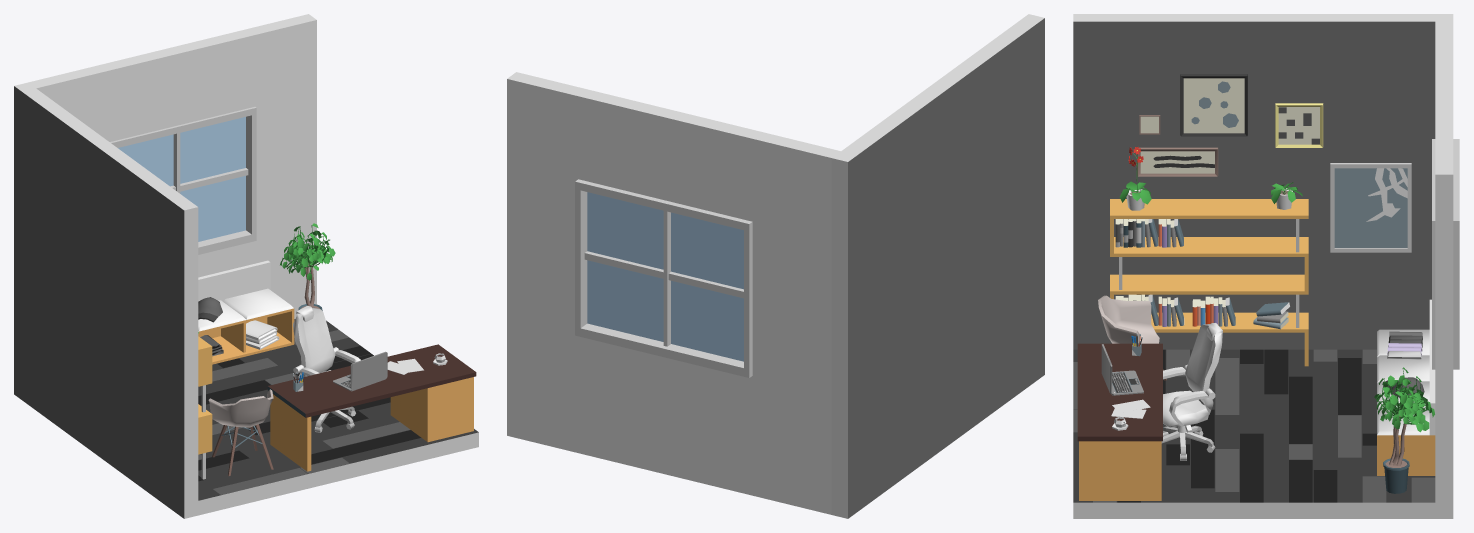
Rendered from room_12.glb.
3 views of the same model, side by side, from view 1: azimuth 30°, elevation 25°; view 2: azimuth 150°, elevation 25°; view 3: azimuth 270°, elevation 25° (orthographic). The views are drawn at different scales.
Parts seen in each view (by area): view 1: Walls_046.009, Walls_006.035, floor_007.001, Walls_006.037, window_008.001, office_table_027.001, tv_wall_002.001, Walls_011.006, Walls_006.033, office_chair_024.001, kitchen_chair_023.001, flower_027.003 (+4 smaller); view 2: Walls_046.009, Walls_006.033, window_008.001, Walls_006.035, Walls_006.036, Walls_006.037; view 3: Walls_046.009, floor_007.001, shelf_077.002, office_table_027.001, picture_034.001, Walls_011.006, picture_029.003, Walls_006.035, tv_wall_002.001, office_chair_024.001, flower_027.003, window_008.001 (+12 smaller).
Boxes of the visible parts, x1,y1,x2,y2 form: Walls_046.009: (14, 82, 198, 518); Walls_006.035: (246, 14, 316, 318); floor_007.001: (198, 319, 478, 500); Walls_006.037: (98, 29, 253, 141); window_008.001: (110, 107, 256, 254); office_table_027.001: (267, 344, 476, 471); tv_wall_002.001: (198, 260, 294, 364); Walls_011.006: (198, 321, 478, 515); Walls_006.033: (28, 65, 106, 139); office_chair_024.001: (293, 305, 360, 432); kitchen_chair_023.001: (208, 389, 273, 476); flower_027.003: (280, 223, 335, 310); Walls_046.009: (831, 14, 1044, 518); Walls_006.033: (750, 131, 840, 514); window_008.001: (575, 179, 752, 377); Walls_006.035: (507, 72, 588, 453); Walls_006.036: (580, 337, 750, 494); Walls_006.037: (580, 90, 759, 220); Walls_046.009: (1073, 14, 1453, 349); floor_007.001: (1073, 349, 1435, 502); shelf_077.002: (1110, 199, 1308, 366); office_table_027.001: (1077, 343, 1162, 500); picture_034.001: (1137, 74, 1323, 176); Walls_011.006: (1073, 349, 1435, 518); picture_029.003: (1330, 163, 1411, 252); Walls_006.035: (1435, 140, 1453, 518); tv_wall_002.001: (1377, 299, 1435, 475); office_chair_024.001: (1161, 323, 1222, 460); flower_027.003: (1374, 367, 1434, 493); window_008.001: (1432, 139, 1459, 369).
Bounding box in the file's own units: 4.2 × 4.2 × 4.27.
1 material, 1 textured.
